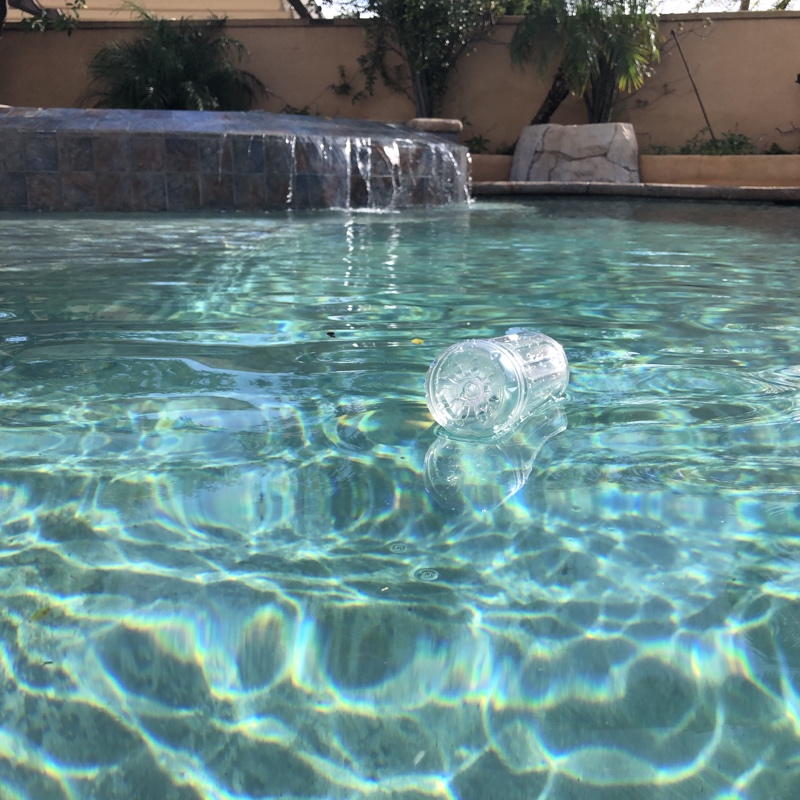Plastic Bottle: (423, 324, 574, 448)
